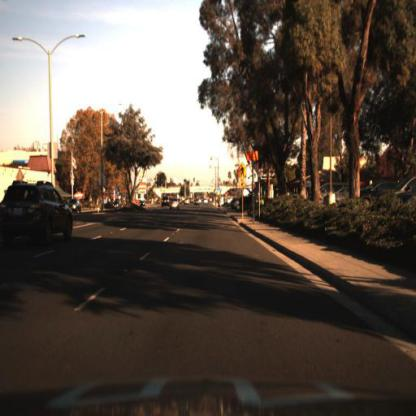car: (2, 180, 79, 242), (305, 176, 349, 208), (169, 195, 181, 211), (170, 197, 180, 213), (111, 199, 124, 211), (162, 196, 171, 209)
